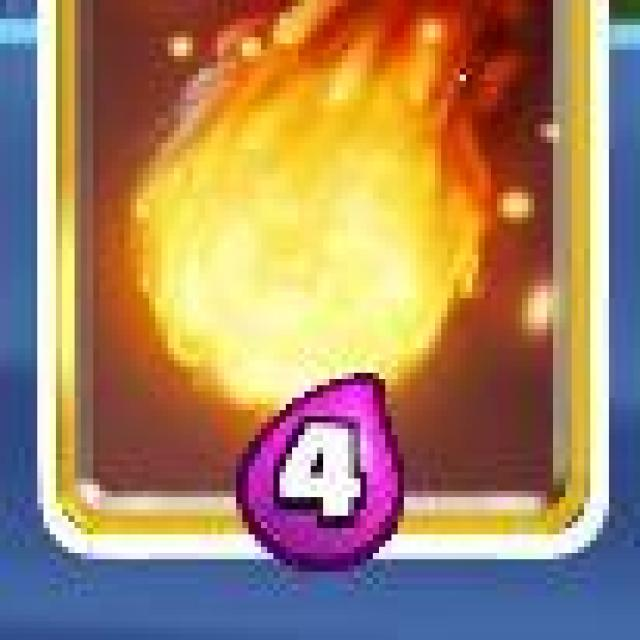Fireball: (34, 0, 614, 573)
